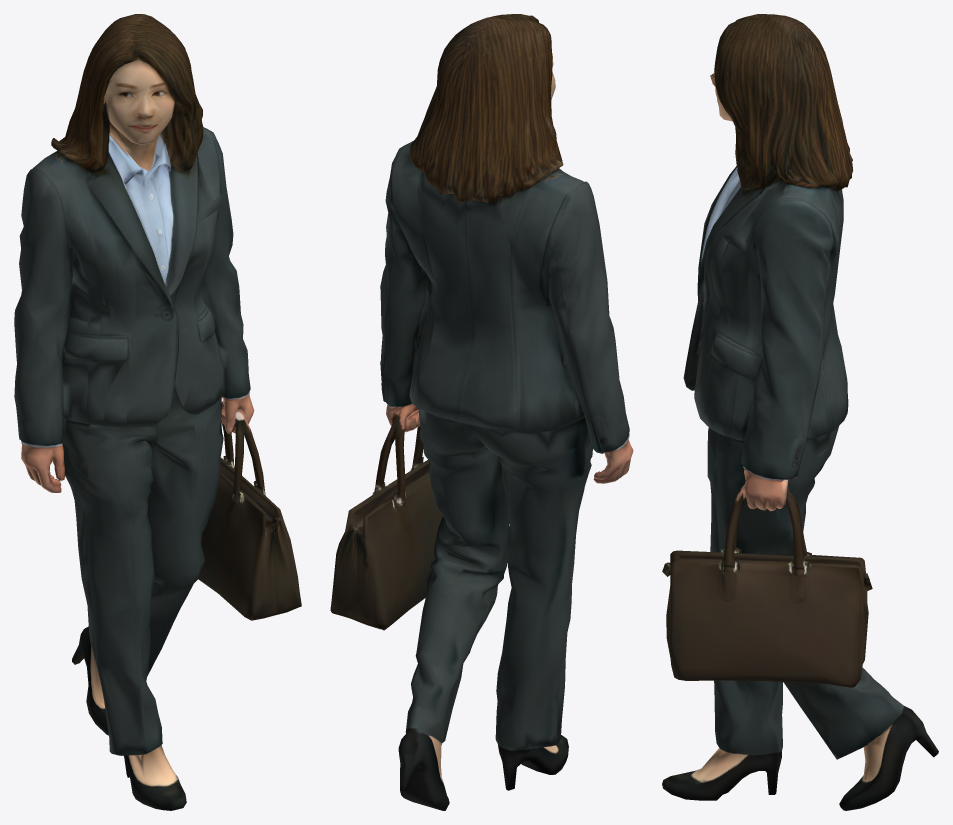
Rendered from JPGV01_W02_L10k.glb.
3 views of the same model, side by side, from view 1: azimuth 30°, elevation 25°; view 2: azimuth 150°, elevation 25°; view 3: azimuth 270°, elevation 25° (orthographic). The views are drawn at different scales.
Parts seen in each view (by area): view 1: JPGV01_W02_L10k; view 2: JPGV01_W02_L10k; view 3: JPGV01_W02_L10k.
Part boxes in pixels (bbox=[...]): JPGV01_W02_L10k: bbox=[14, 14, 301, 810]; JPGV01_W02_L10k: bbox=[330, 14, 633, 810]; JPGV01_W02_L10k: bbox=[662, 14, 938, 810].
Size of the model in its own units: 0.5835 by 1.7 by 0.5459.
Materials: 1 (1 with a texture image).
